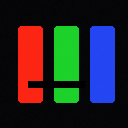3 line_h: (28, 81, 84, 87)
